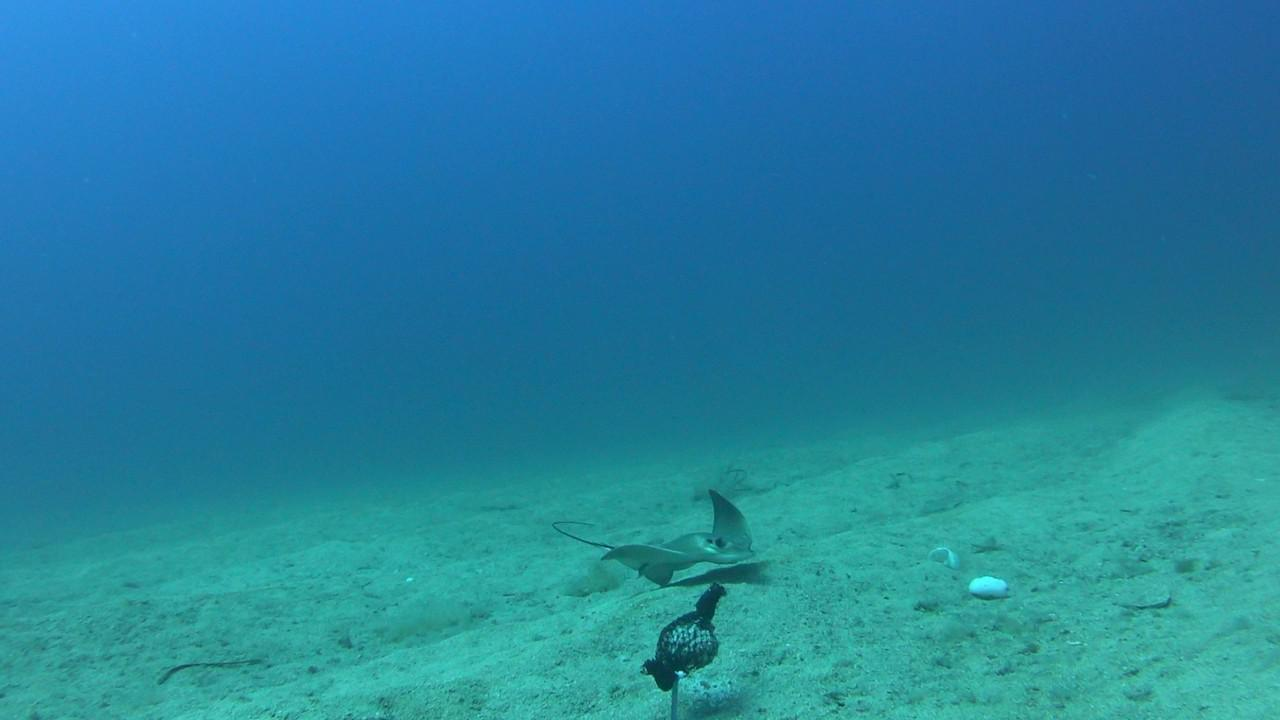myliobatis: (548, 487, 762, 594)
